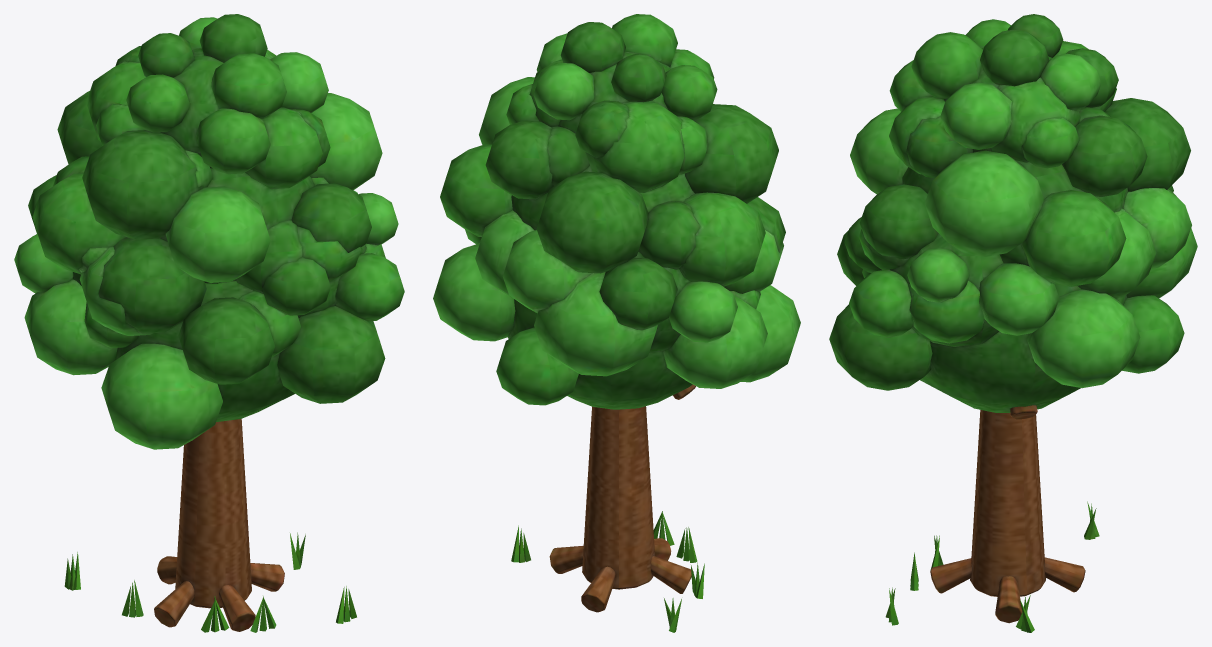
Rendered from dragon_fruit_tree.glb.
3 renders of one model, left to right at view 1: azimuth 30°, elevation 25°; view 2: azimuth 150°, elevation 25°; view 3: azimuth 270°, elevation 25°, orthographic. The views are drawn at different scales.
Parts seen in each view (by area): view 1: crown, dragon_fruit_tree; view 2: crown, dragon_fruit_tree; view 3: crown, dragon_fruit_tree.
Part boxes in pixels (x1=…): crown: x1=14, y1=14, x2=404, y2=449; dragon_fruit_tree: x1=64, y1=419, x2=356, y2=632; crown: x1=433, y1=14, x2=800, y2=409; dragon_fruit_tree: x1=511, y1=384, x2=704, y2=632; crown: x1=829, y1=14, x2=1197, y2=412; dragon_fruit_tree: x1=885, y1=405, x2=1099, y2=632.
Bounding box in the file's own units: 0.8592 × 1.49 × 0.8685.
1 material, 1 textured.
